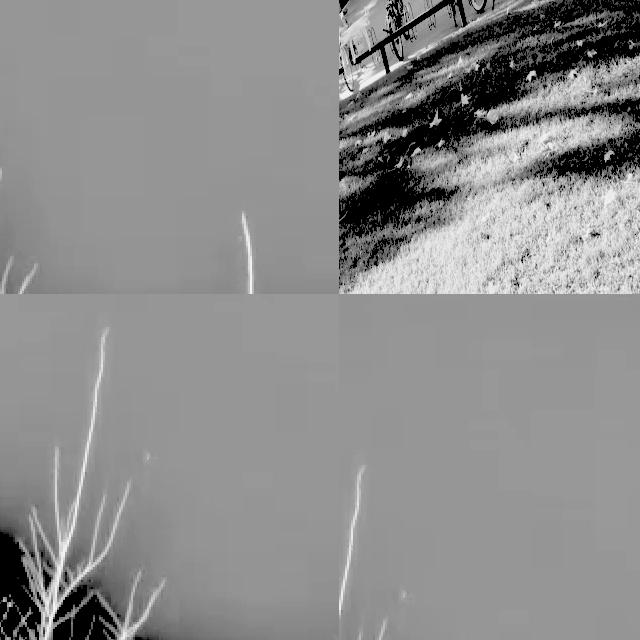0: (136, 443, 158, 471), (392, 581, 414, 609)
drone: (339, 2, 374, 54)
